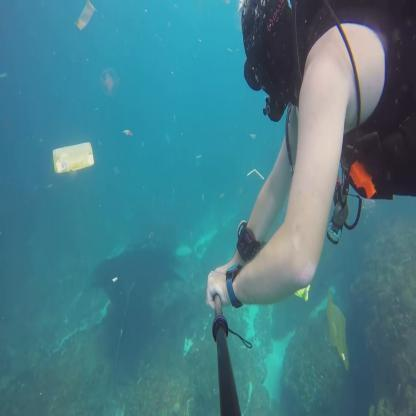Rác: (50, 144, 102, 178), (328, 292, 348, 370), (72, 6, 99, 27)
